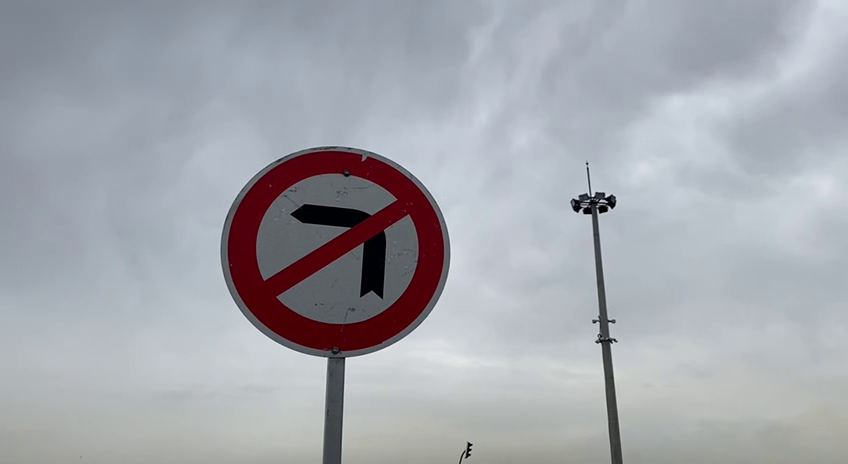noTurnLeft: (214, 138, 455, 361)
